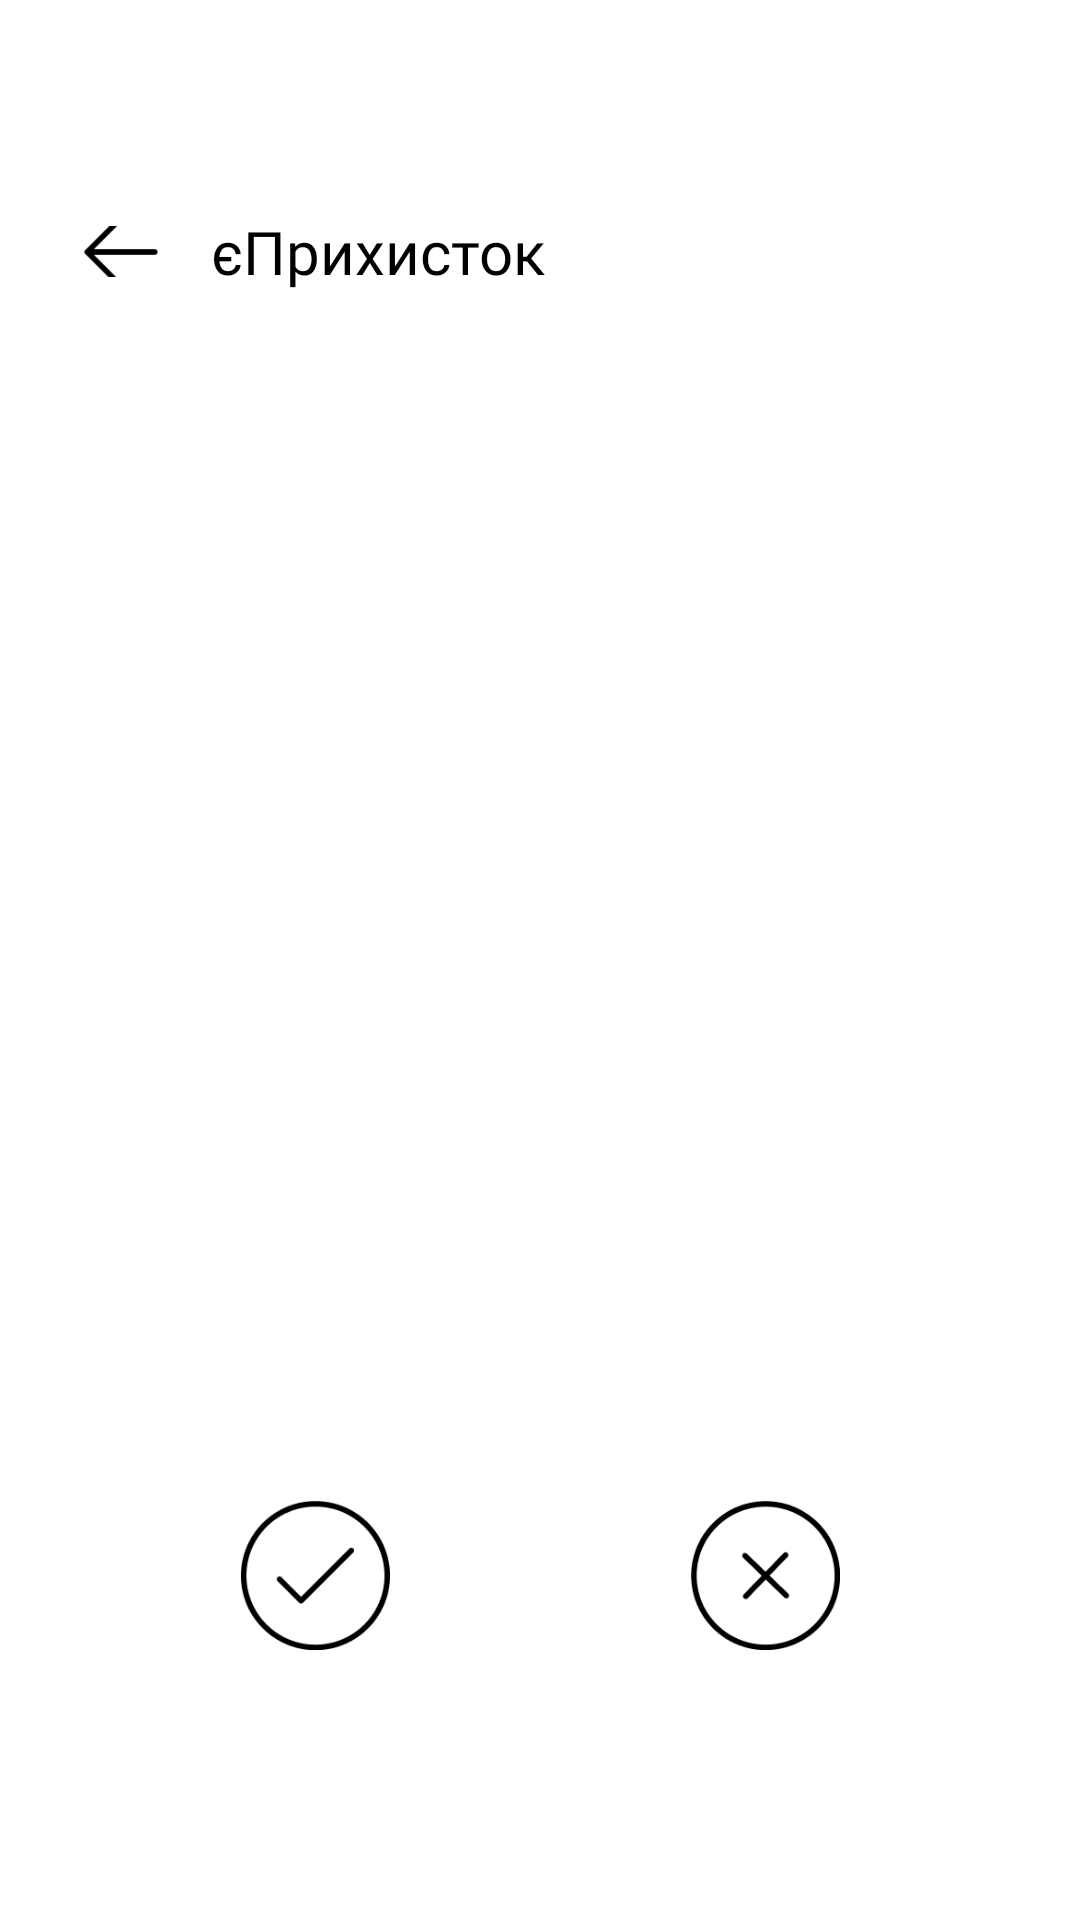

Icons on this 1080*1920 Android screen, each with the point to tap as point (x, y):
arrow left: point (121, 251)
